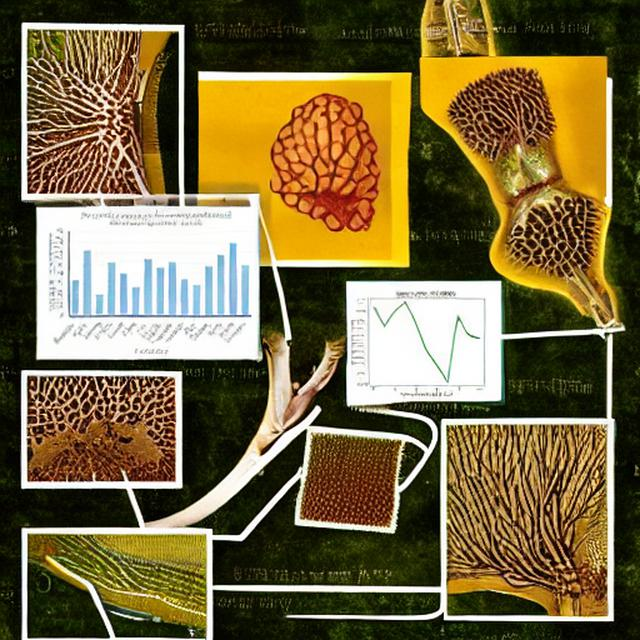Graph: (42, 208, 255, 357), (349, 285, 500, 398)
